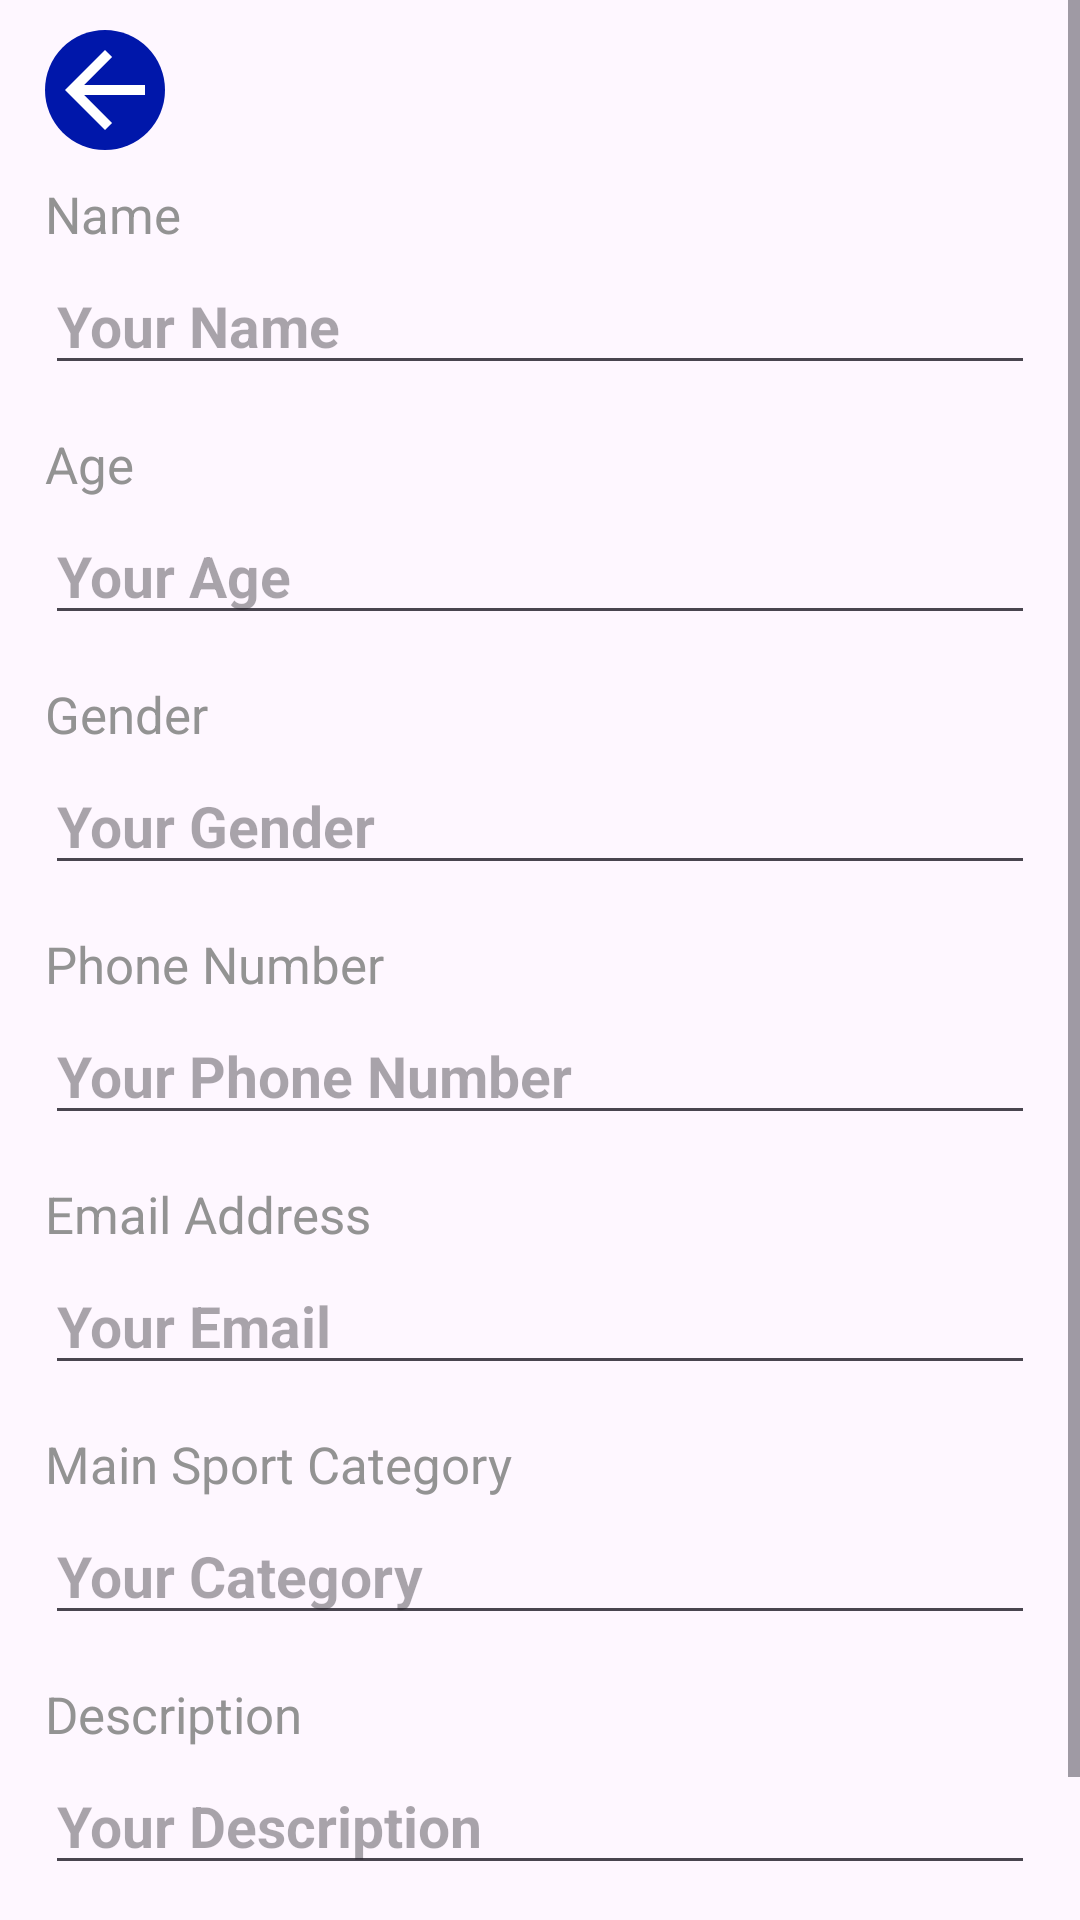

Named icons in this screenshot (1080×1920) and their bounding boxes, BBox(x1, y1, x2, y2):
back: BBox(45, 30, 165, 150)
